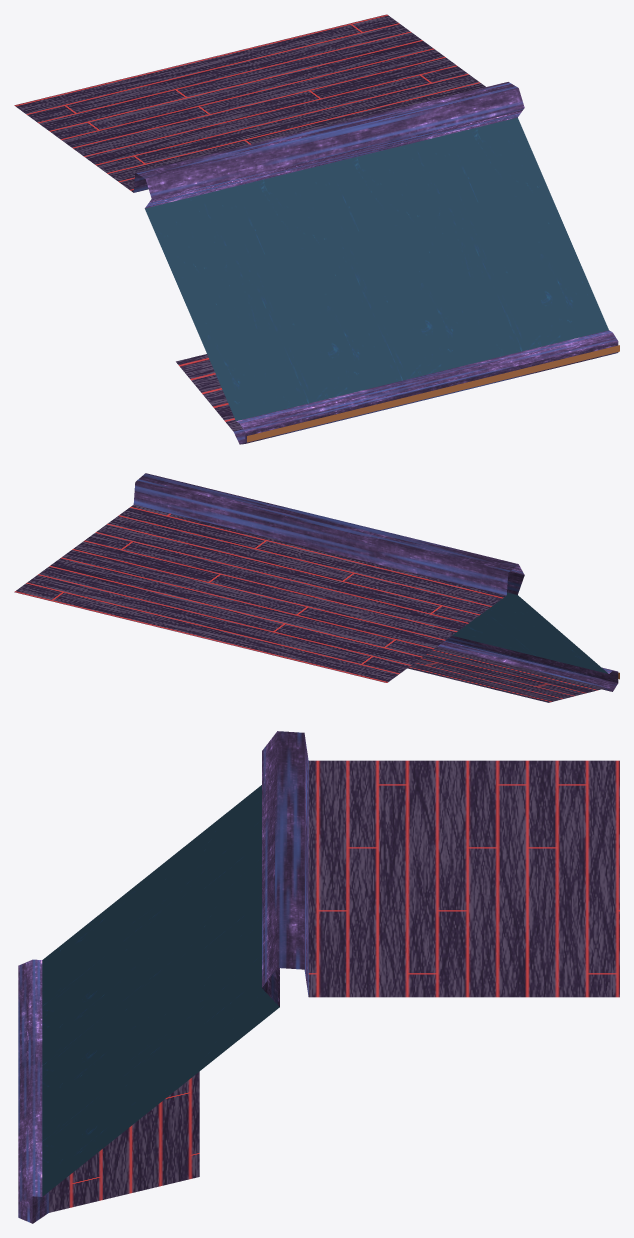
File: tomb-chaser-2__TempleRoof01_Art.glb
3 views of the same model, one above another, from view 1: azimuth 30°, elevation 25°; view 2: azimuth 150°, elevation 25°; view 3: azimuth 270°, elevation 25° (orthographic). The views are drawn at different scales.
Visible parts, largest first — view 1: TempleRoof01_Art; view 2: TempleRoof01_Art; view 3: TempleRoof01_Art.
Boxes of the visible parts, x1,y1,x2,y2 form: TempleRoof01_Art: [14, 14, 619, 444]; TempleRoof01_Art: [14, 473, 619, 702]; TempleRoof01_Art: [18, 731, 619, 1223].
Bounding box in the file's own units: 8 × 4.03 × 8.65.
4 materials, 4 textured.
